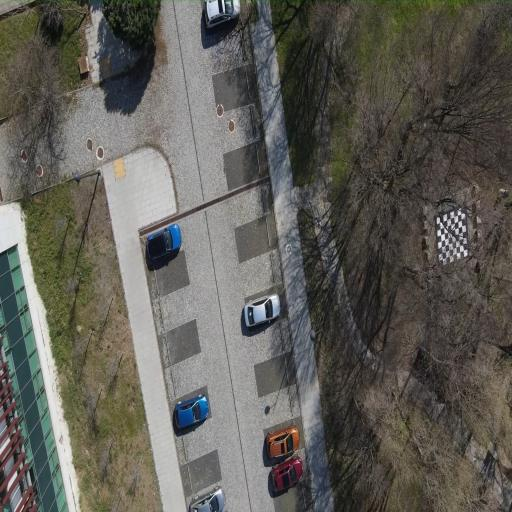car: (146, 224, 182, 262), (244, 293, 279, 326), (174, 394, 207, 427), (266, 425, 299, 457), (270, 457, 301, 490), (204, 0, 239, 26), (188, 486, 223, 511)
